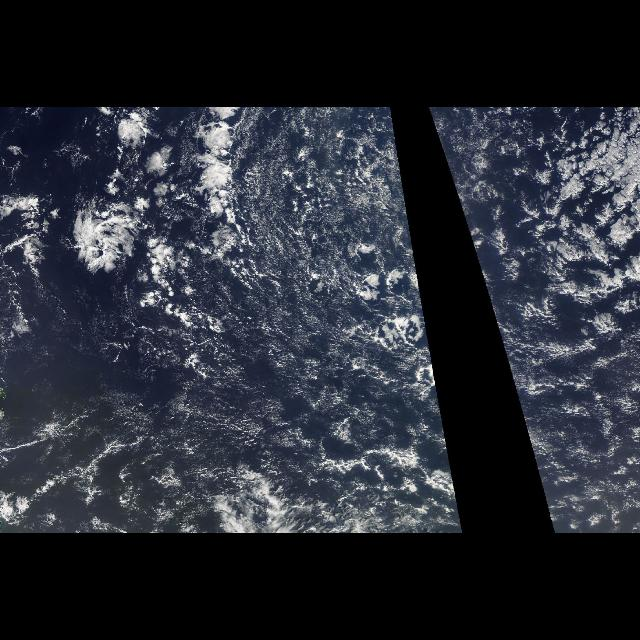Fish: (60, 195, 142, 283)
Flower: (458, 110, 638, 518), (44, 116, 280, 364)
Gravel: (312, 204, 448, 492), (553, 121, 639, 295)
Sugar: (109, 110, 418, 462), (530, 316, 638, 520), (454, 109, 540, 238)
